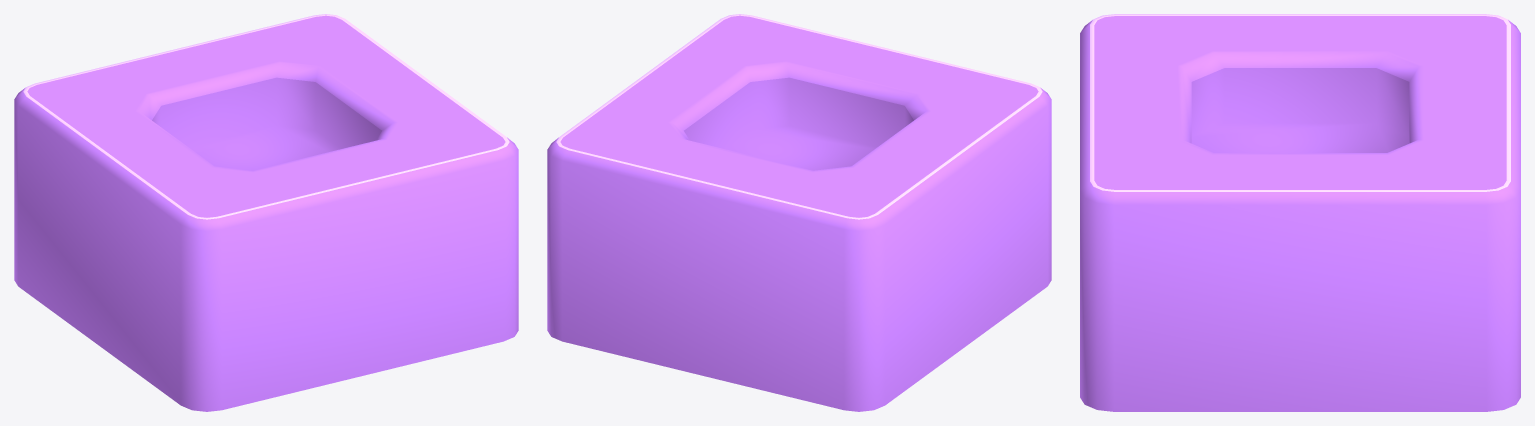
File: cell_purple.glb
The picture shows the model from 3 angles, left to right: view 1: azimuth 30°, elevation 25°; view 2: azimuth 150°, elevation 25°; view 3: azimuth 270°, elevation 25°; orthographic projection. The views are drawn at different scales.
Visible parts, largest first — view 1: cell_purple; view 2: cell_purple; view 3: cell_purple.
Boxes of the visible parts, x1=… form: cell_purple: x1=14, y1=14, x2=518, y2=411; cell_purple: x1=547, y1=14, x2=1051, y2=411; cell_purple: x1=1080, y1=14, x2=1520, y2=411.
Size of the model in its own units: 1 by 0.54 by 1.
1 material, 1 textured.
